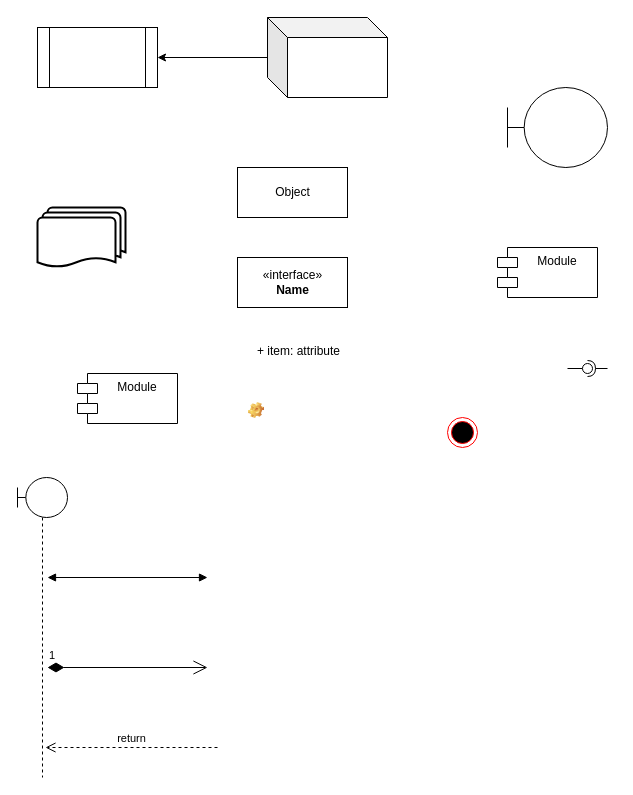
Some shapes in this 633 by 795 pixel diagram are drawn without their labels. Here are the shapes that lost their labels. From the top down, the centre of each, then its label:
the point at 557,127: Boundary Object
the point at 301,410: item: attribute
